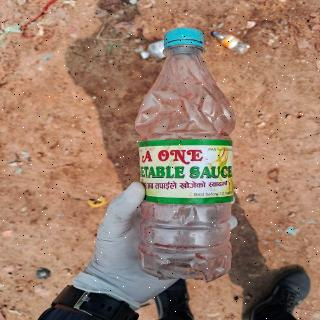Plastic-bottle: (124, 17, 254, 287)
